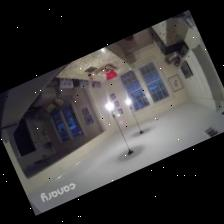person: (123, 35, 132, 40)
